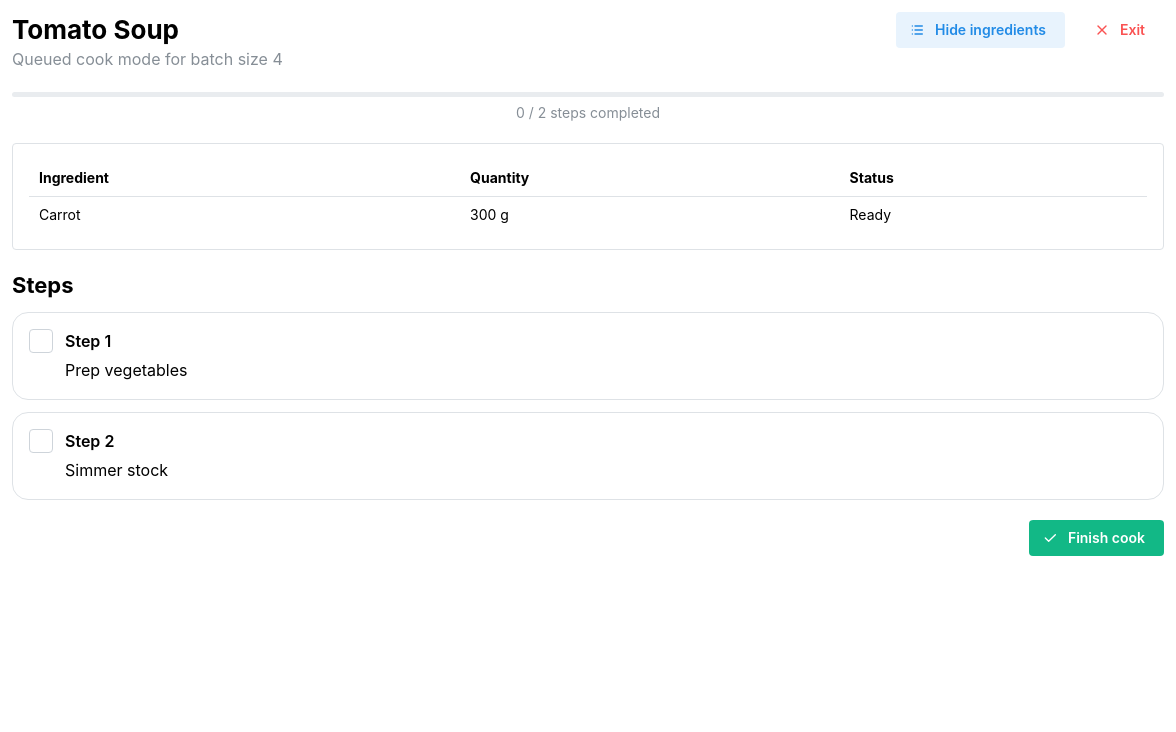
QueuedCookModePage › shows ingredients expanded by default and renders every step as a checkbox list
The width and height of the screenshot is (1176, 732).
Expected: the text "Carrot" is shown, [29, 196, 460, 233]
Expected: the checkbox labelled "Step 2 Simmer stock" is shown, [29, 429, 53, 453]
Click the checkbox labelled "Step 1 Prep vegetables" at (41, 341), box [29, 329, 53, 353]
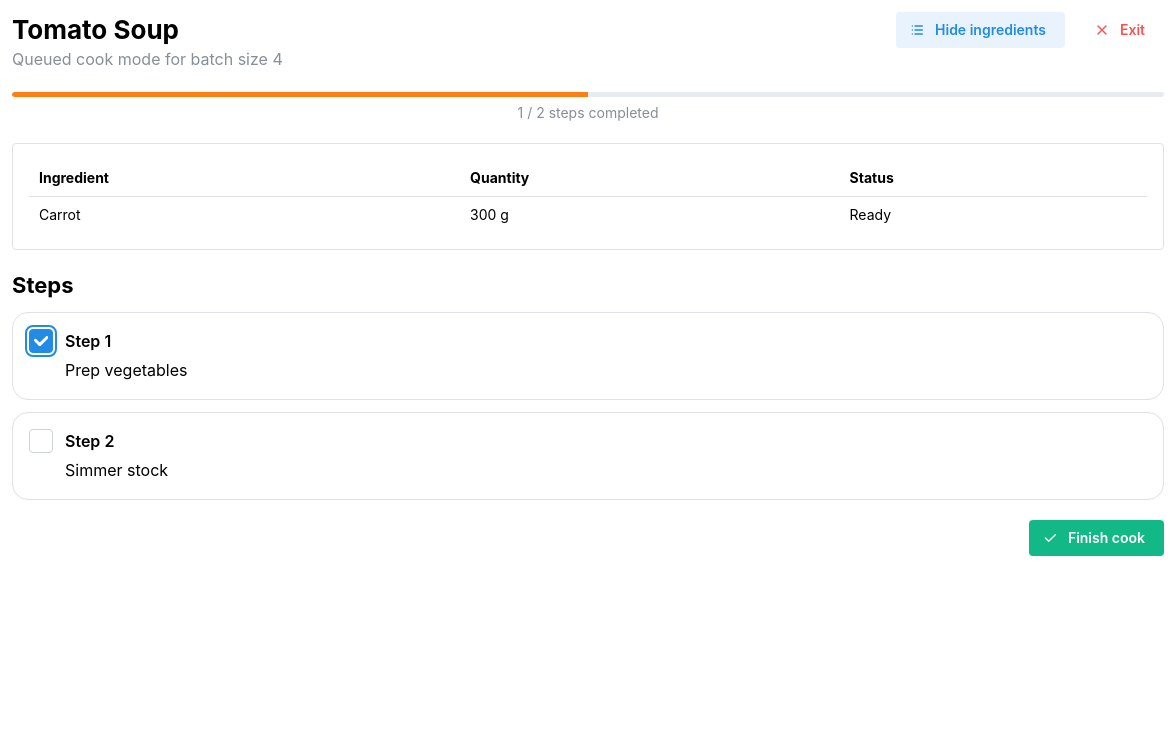
Result: the text "1 / 2 steps completed" is shown at [518, 104, 658, 121]
